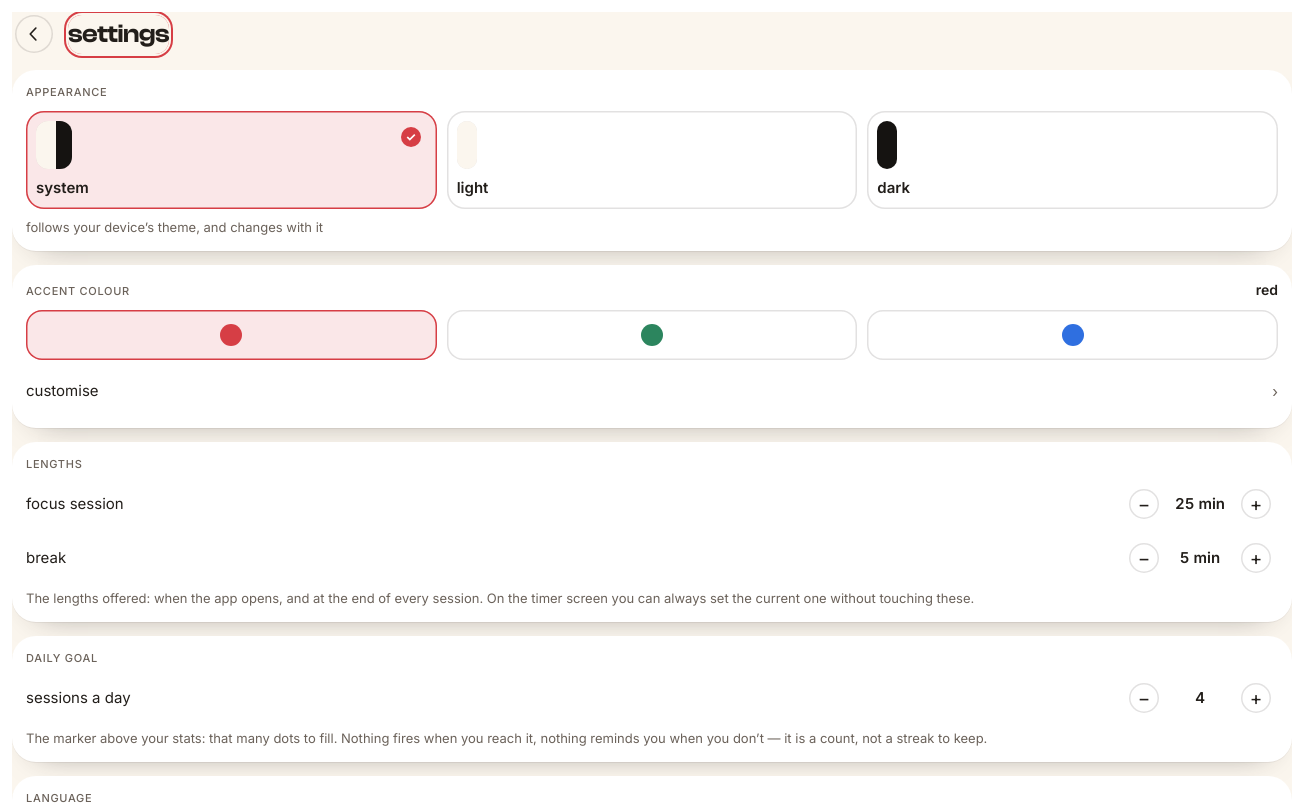
the daily goal › is a number the reader can set, with what it does spelled out
Step 1. Click the button named "increase: sessions a day" → (1256, 698), box top-left (1234, 676), bottom-right (1278, 720)
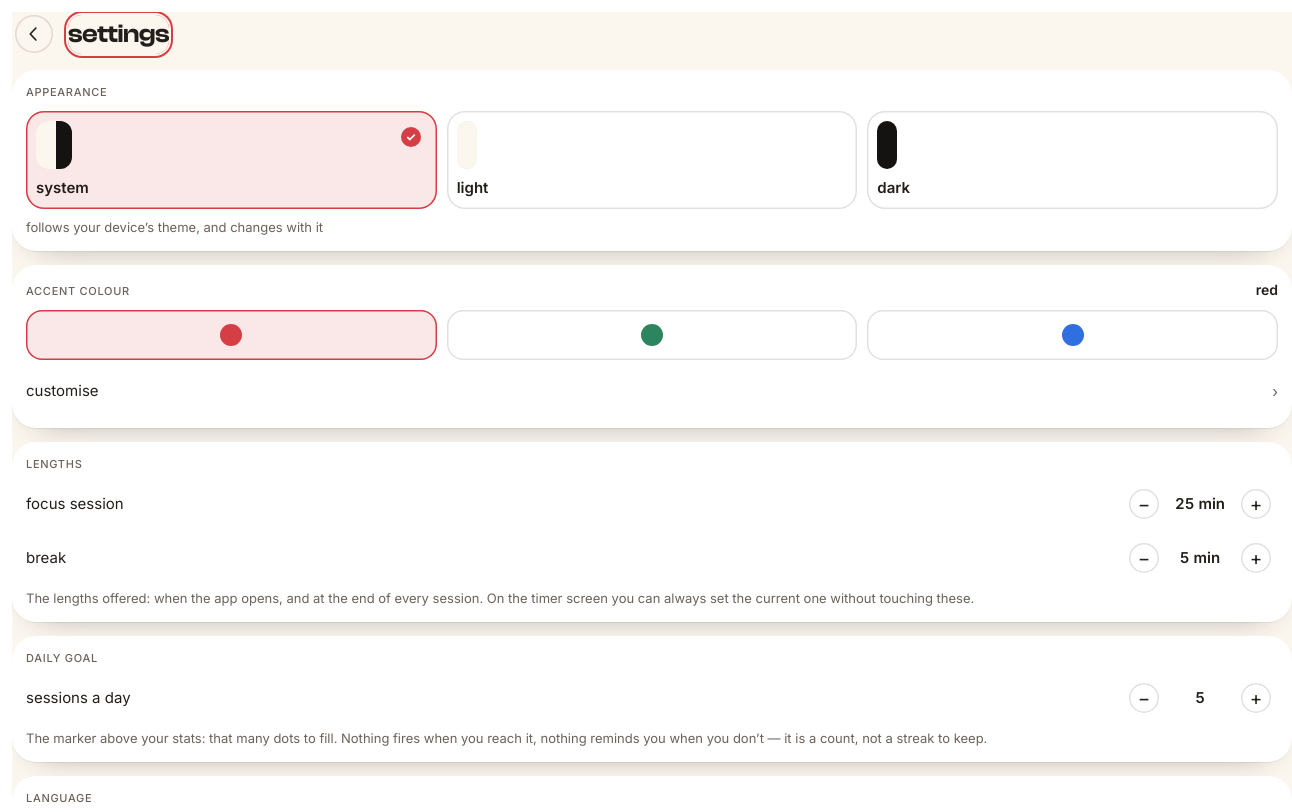
Expected: the text "it is a count, not a streak to keep" is shown, top-left (26, 730), bottom-right (987, 746)
Result: the text named "5 sessions" is shown at top-left (1195, 688), bottom-right (1205, 707)
